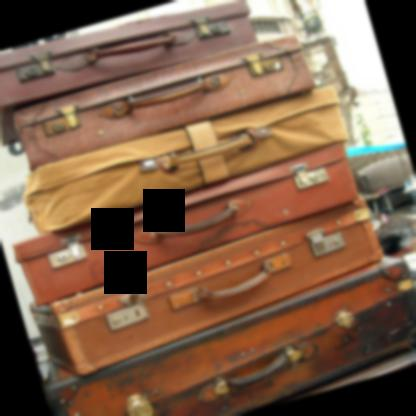suitcase: (32, 196, 386, 374), (44, 254, 416, 416), (15, 141, 359, 306), (19, 86, 348, 233), (10, 37, 320, 166), (0, 0, 258, 142)
